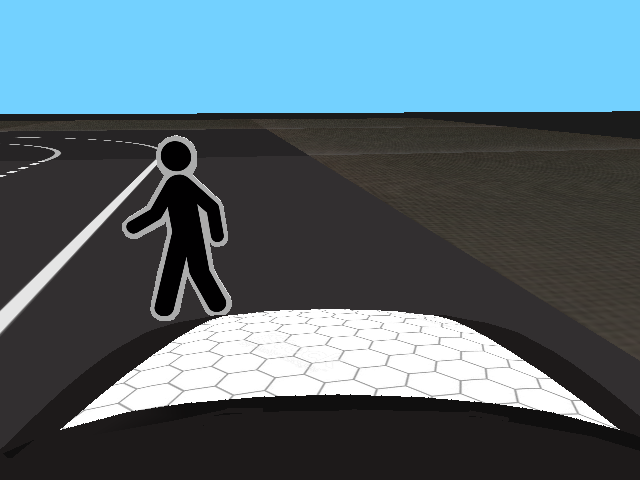pedestrian: (121, 133, 235, 319)
